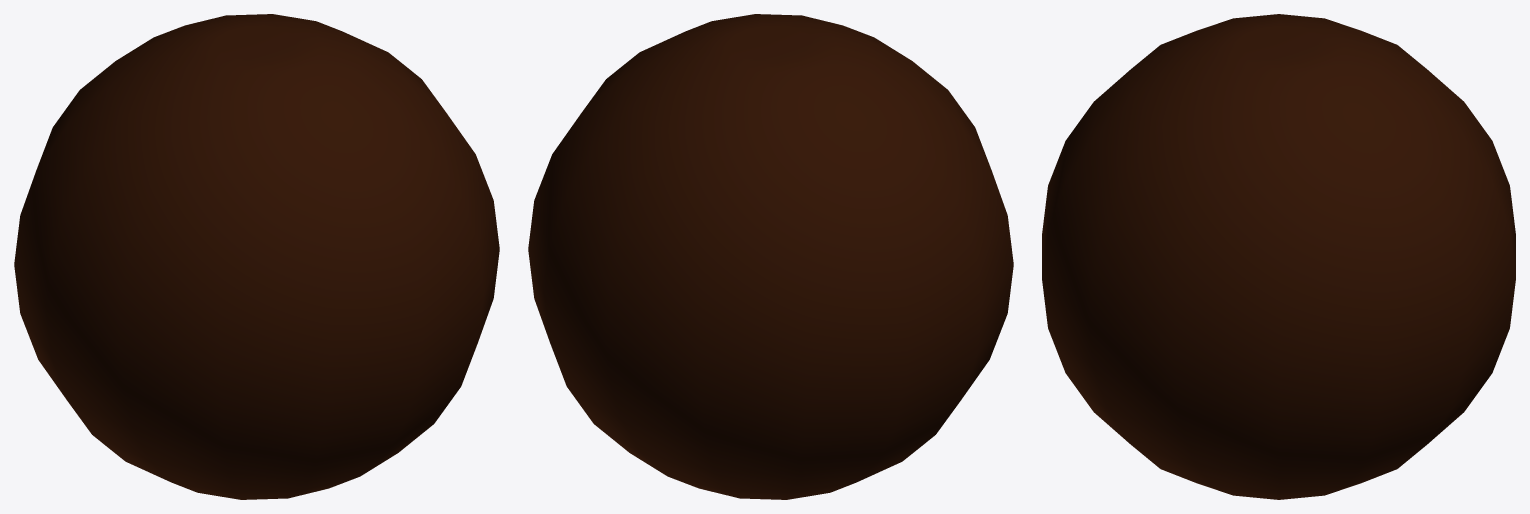
File: coconut_01.fbx
The picture shows the model from 3 angles, left to right: view 1: azimuth 30°, elevation 25°; view 2: azimuth 150°, elevation 25°; view 3: azimuth 270°, elevation 25°; orthographic projection.
Parts seen in each view (by area): view 1: Coconut; view 2: Coconut; view 3: Coconut.
Part boxes in pixels (x1,y1,x2,y2): Coconut: (14,14,499,499); Coconut: (528,14,1013,499); Coconut: (1042,14,1515,499).
Size of the model in its own units: 2 by 1.94 by 1.95.
